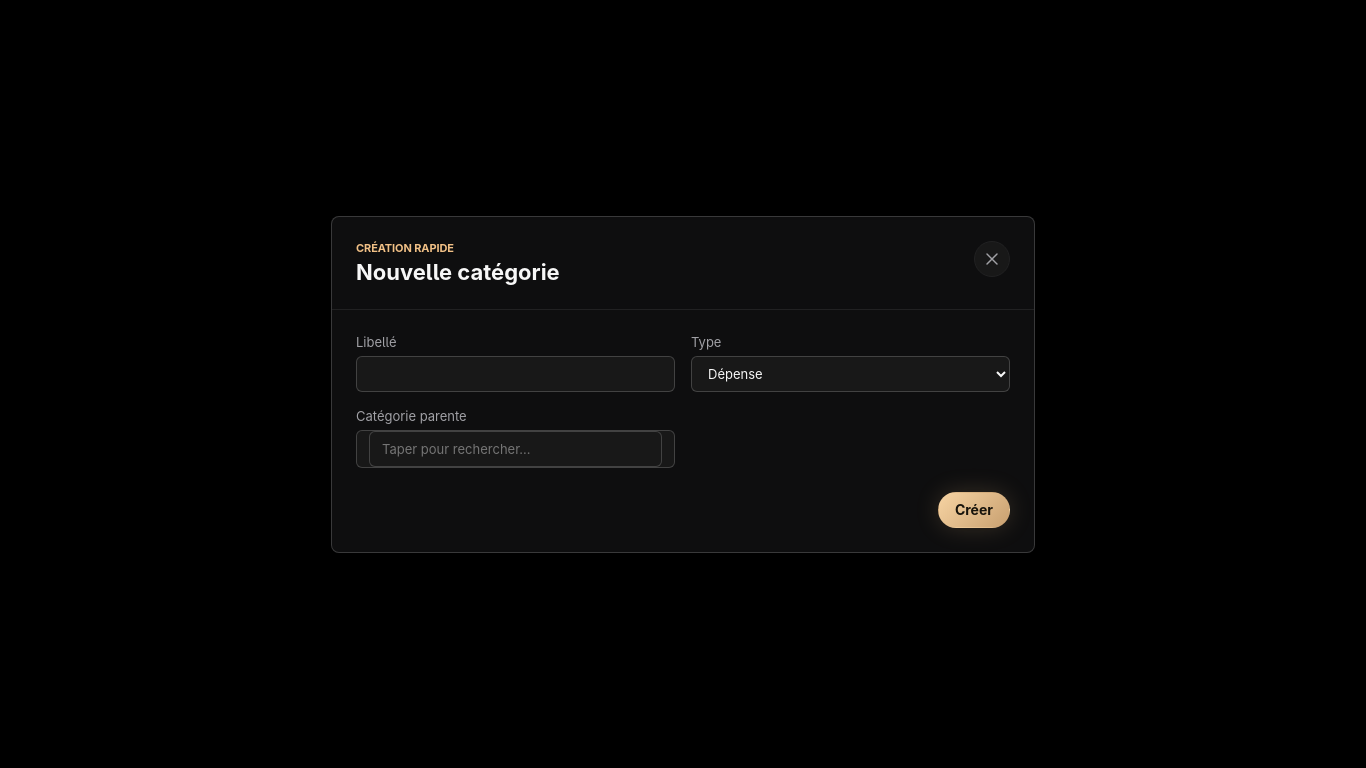
QuickCategoryDialog › validates the label locally without issuing a request
Click the button "Créer" at (974, 510), box x1=938 y1=492 x2=1010 y2=528
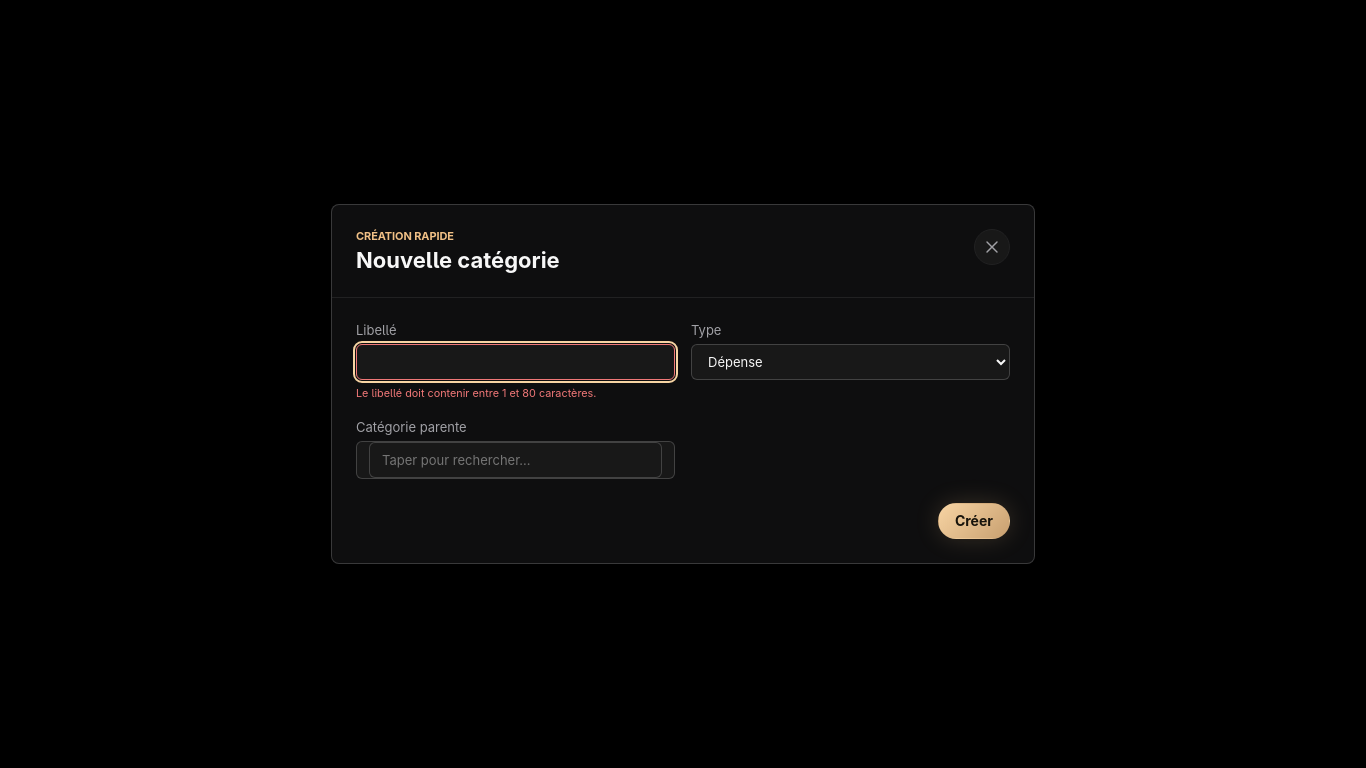
Expected: the text "Le libellé doit contenir entre 1 et 80 caractères." is shown, x1=356 y1=387 x2=596 y2=400
